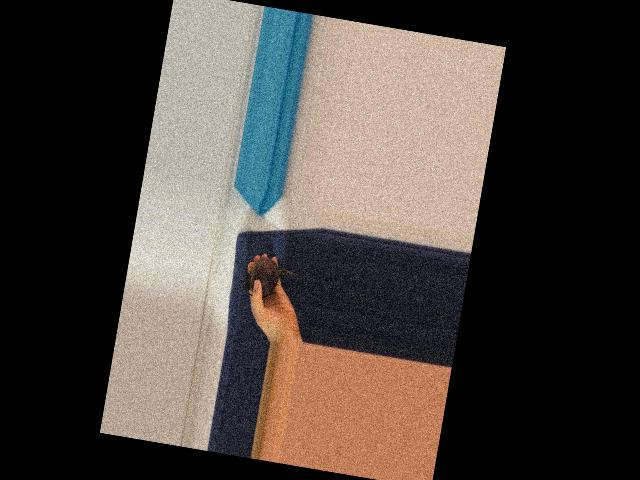beet: (241, 254, 304, 303)
